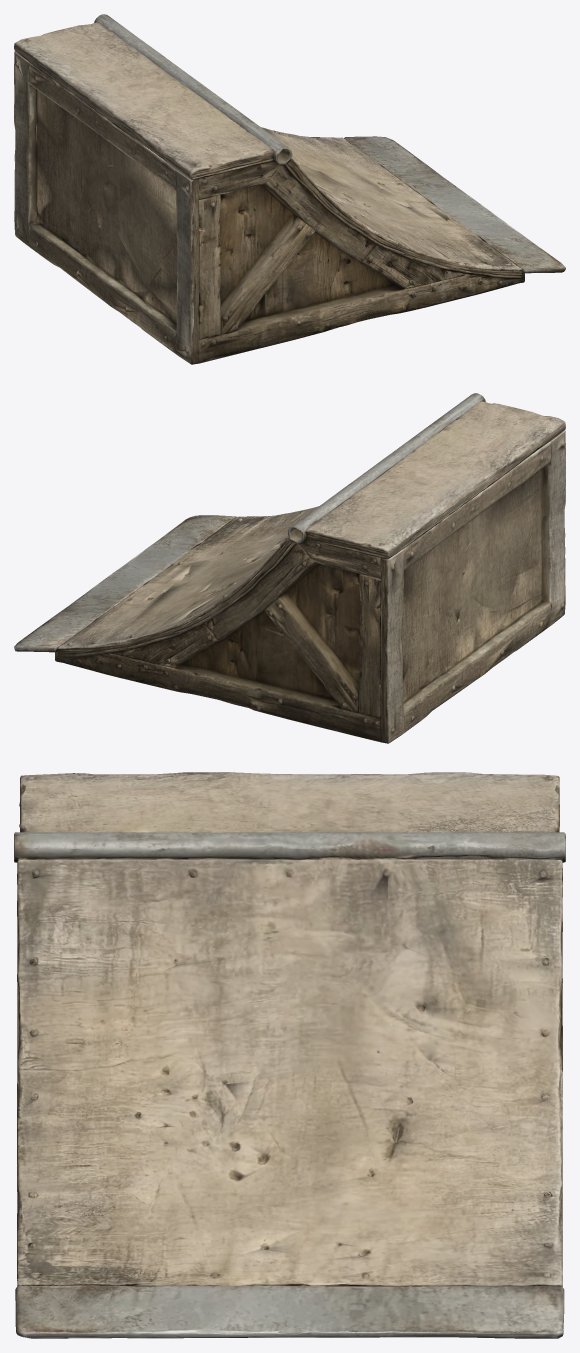
Rendered from CCG_Kicker.fbx.
3 renders of one model, top to bottom at view 1: azimuth 30°, elevation 25°; view 2: azimuth 150°, elevation 25°; view 3: azimuth 270°, elevation 25°, orthographic. The views are drawn at different scales.
Visible parts, largest first — view 1: tripo_node_7a905d2e-6a03-498a-a62b-924e17e20fdc; view 2: tripo_node_7a905d2e-6a03-498a-a62b-924e17e20fdc; view 3: tripo_node_7a905d2e-6a03-498a-a62b-924e17e20fdc.
Boxes of the visible parts, bbox=[...] form: tripo_node_7a905d2e-6a03-498a-a62b-924e17e20fdc: bbox=[14, 14, 565, 364]; tripo_node_7a905d2e-6a03-498a-a62b-924e17e20fdc: bbox=[14, 393, 565, 743]; tripo_node_7a905d2e-6a03-498a-a62b-924e17e20fdc: bbox=[14, 772, 565, 1338].
Size of the model in its own units: 0.9786 by 0.4931 by 0.8188.
1 material, 1 textured.
